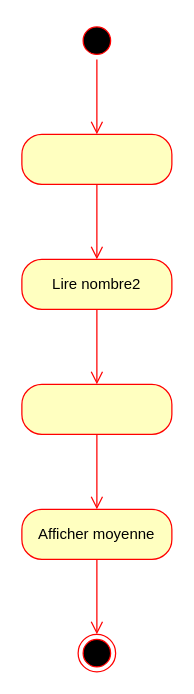
This 194x694 diagram has some shape labels left out. The shapes that lost their labels are listed below. From the top down, each one's centre as x and y in pixels, then its label:
point (96, 158): Lire nombre1
point (96, 408): moyenne <-- (nombre1 + nombre2)/2
